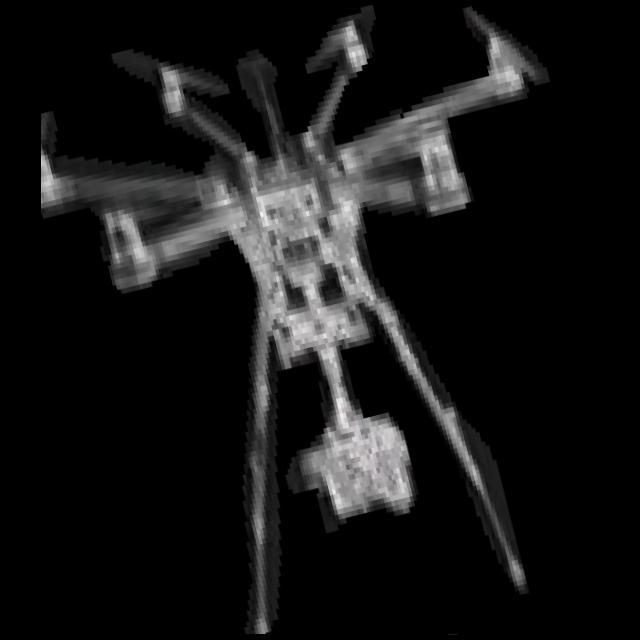drone: (41, 5, 603, 634)
